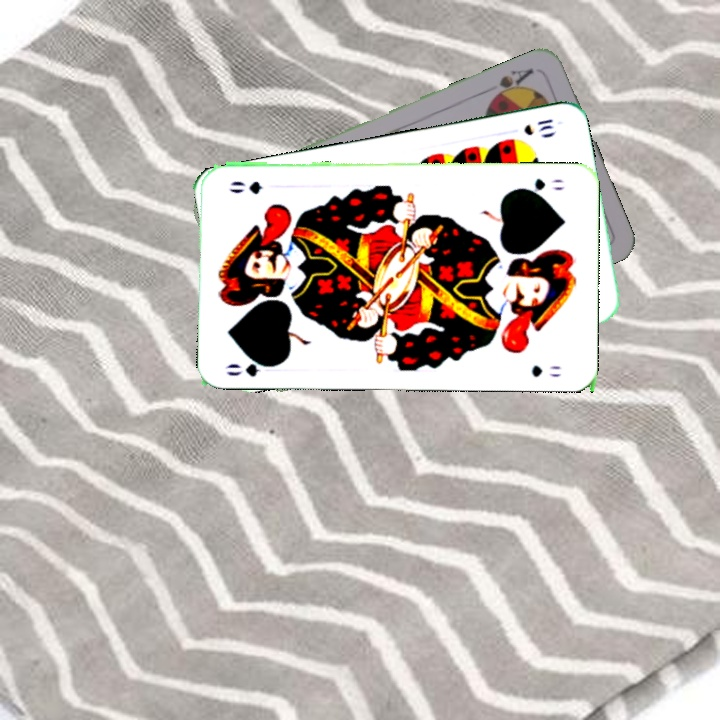GO: (222, 353, 281, 379), (513, 175, 567, 197)
S10: (519, 115, 556, 138)
SA: (486, 63, 537, 104)
